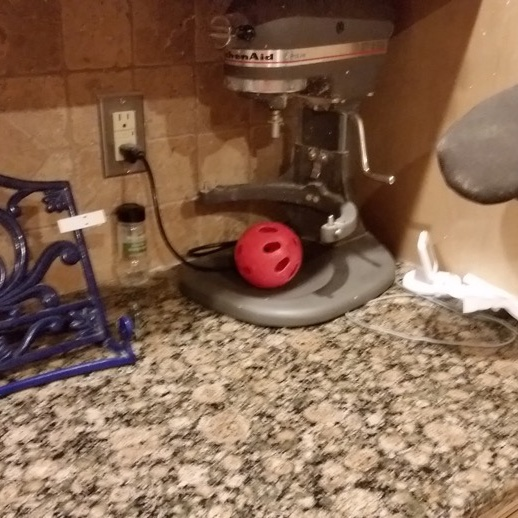ball: (233, 218, 305, 293)
